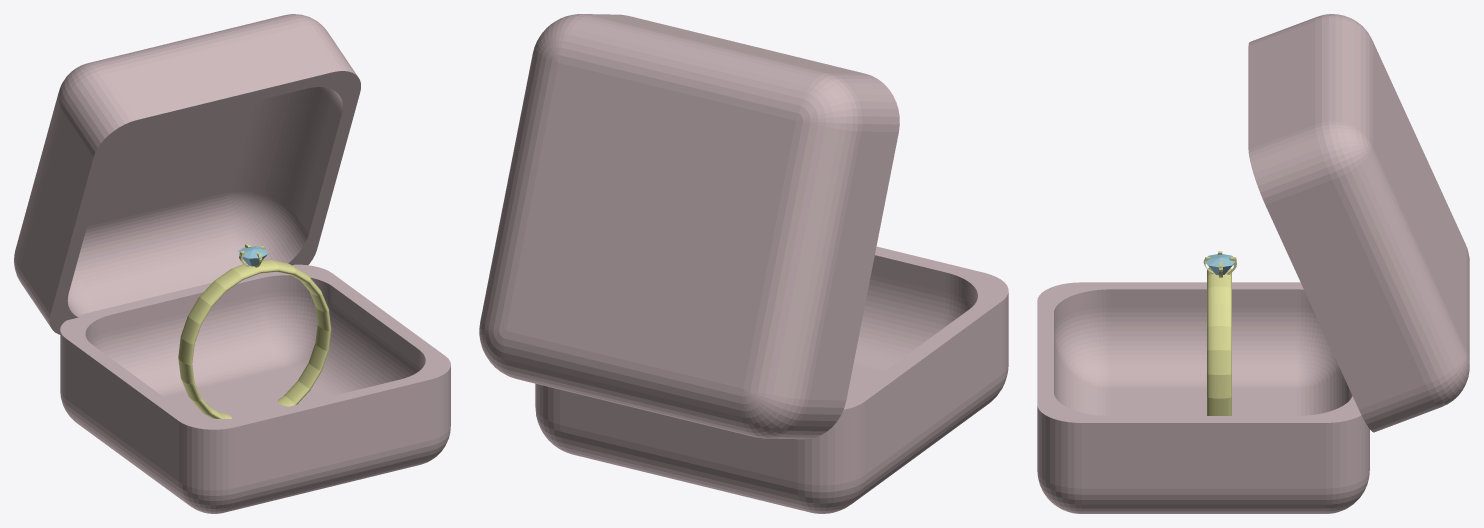
The model's file is tinker.glb.
3 renders of one model, left to right at view 1: azimuth 30°, elevation 25°; view 2: azimuth 150°, elevation 25°; view 3: azimuth 270°, elevation 25°, orthographic. The views are drawn at different scales.
Visible parts, largest first — view 1: Mesh_Mesh_head_geo.001_lambert2SG.001; view 2: Mesh_Mesh_head_geo.001_lambert2SG.001; view 3: Mesh_Mesh_head_geo.001_lambert2SG.001.
Boxes of the visible parts, left/top/right/bottom form: Mesh_Mesh_head_geo.001_lambert2SG.001: left=14, top=14, right=450, bottom=513; Mesh_Mesh_head_geo.001_lambert2SG.001: left=479, top=14, right=1008, bottom=513; Mesh_Mesh_head_geo.001_lambert2SG.001: left=1037, top=14, right=1469, bottom=513.
Bounding box in the file's own units: 20 × 25.76 × 26.
